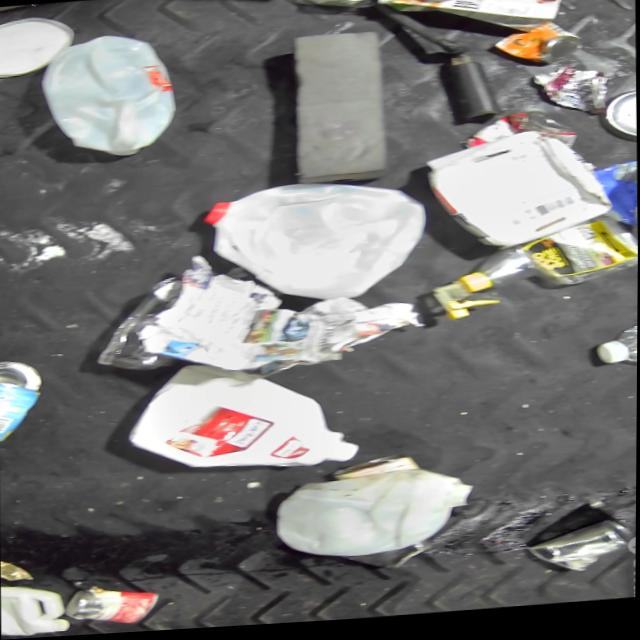can: (525, 523, 637, 582), (458, 113, 584, 162), (529, 67, 626, 126), (489, 25, 585, 75), (64, 583, 164, 629), (0, 355, 44, 443)
milk_jug: (123, 351, 366, 484), (199, 177, 431, 314), (270, 467, 478, 566), (36, 29, 183, 164)
plastic_bottle: (592, 318, 638, 378)
